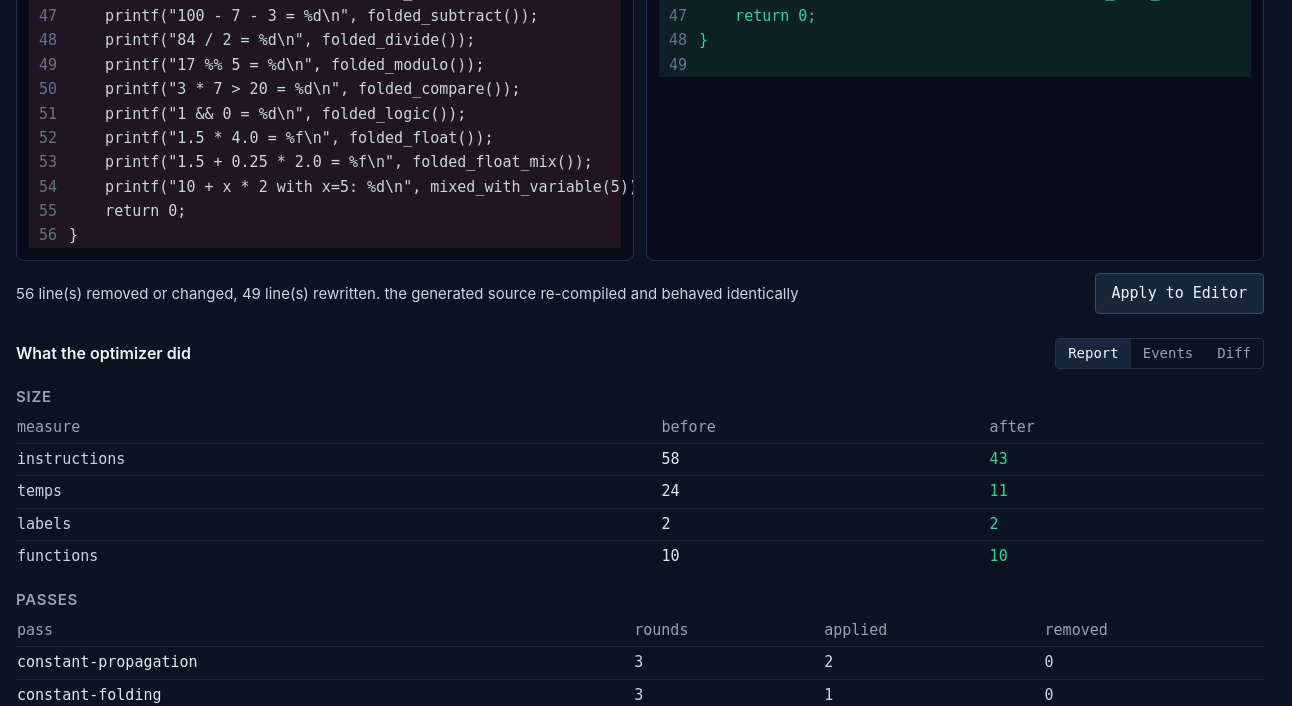
Scenario: optimizer view › lists each rewrite with its before and after
(page scrolled)
Click the button "events". click: {"x": 1168, "y": 353}
box: [1131,339,1205,368]
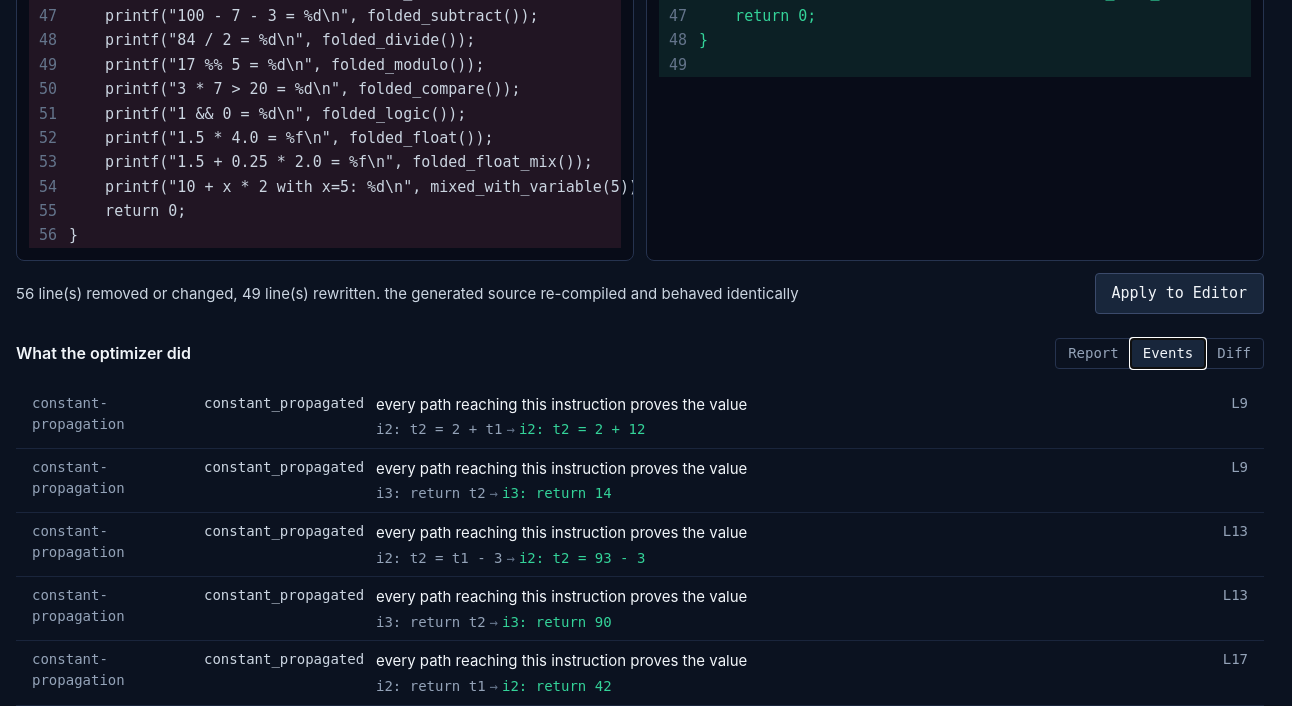
Now the text "i2: t2 = 2 + t1" is shown, box [376,421,502,437]
Now the text "i2: t2 = 2 + 12" is shown, box [519,421,645,437]
Now the 1st text "i3: return t2" is shown, box [376,485,486,501]
